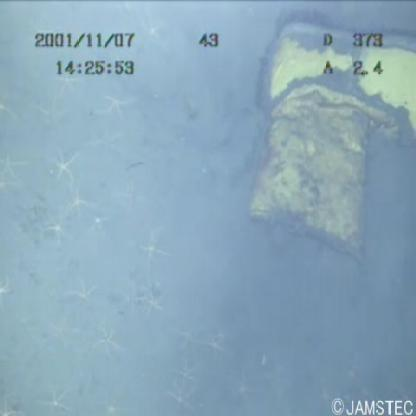Rác: (242, 1, 416, 260)
